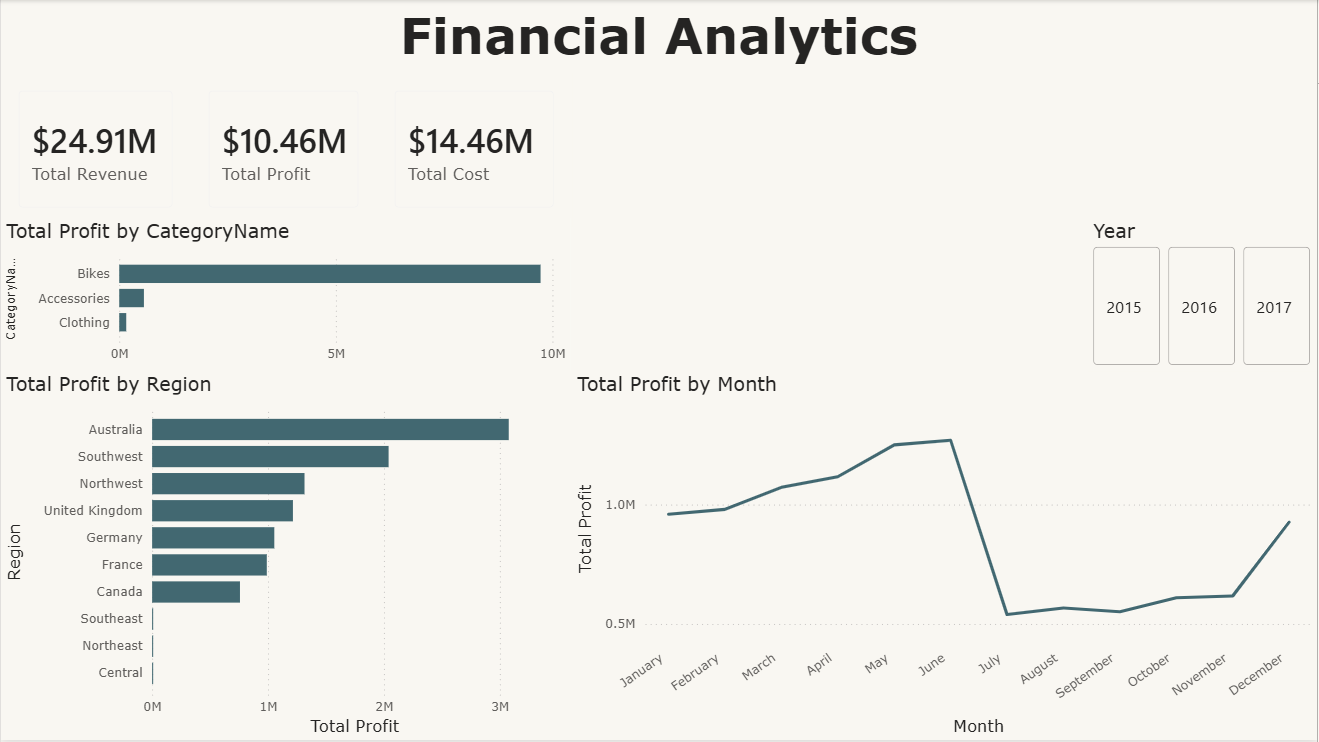

What the dashboard file says about the page in this screenshot:
{"tool":"tableau","page":{"name":"Dashboard 1","canvas":[1000,1000],"units":"permille","ordinal":0},"visuals":[{"type":"text","box":[4.7,8.8,990.6,90.7]},{"type":"worksheet","title":"Sheet 3","mark":"Automatic","box":[4.7,99.6,111,163.7]},{"type":"worksheet","title":"Sheet 5","mark":"Automatic","box":[115.7,99.6,111,163.7]},{"type":"worksheet","title":"Sheet 4","mark":"Automatic","box":[226.7,99.6,113.3,163.7]},{"type":"worksheet","title":"Sheet 6","mark":"Automatic","box":[339.9,99.6,113.2,163.7]},{"type":"worksheet","title":"Sheet 2","mark":"Automatic","box":[453.2,99.6,228.5,218.9]},{"type":"worksheet","title":"Sheet 1","mark":"Automatic","box":[681.7,99.6,220,129.5]},{"type":"legend","title":"Sheet 7","param":"[federated.1aws9jr1iyr5lv11f7j1b1no7b1o].[:Measure Names]","box":[901.7,99.6,93.6,50.9]},{"type":"legend","title":"Sheet 9","param":"[federated.1aws9jr1iyr5lv11f7j1b1no7b1o].[sum:Sales:qk]","box":[901.7,150.5,93.6,71.9]},{"type":"legend","title":"Sheet 10","param":"[federated.1aws9jr1iyr5lv11f7j1b1no7b1o].[none:Gender:nk]","box":[901.7,222.3,93.6,95.1]},{"type":"worksheet","title":"Sheet 8","mark":"Automatic","rows":["Sales"],"cols":["CategoryName"],"box":[681.7,229.1,220,316.3]},{"type":"worksheet","title":"Sheet 7","mark":"Automatic","rows":["Sales"],"cols":["OrderDate"],"box":[4.7,263.2,448.5,309.2]},{"type":"legend","title":"Sheet 10","param":"[federated.1aws9jr1iyr5lv11f7j1b1no7b1o].[sum:Sales:qk]","box":[901.7,317.5,93.6,50.9]},{"type":"worksheet","title":"Sheet 11","mark":"Automatic","rows":["Sales"],"cols":["Year"],"box":[453.2,318.4,228.5,672.7]},{"type":"legend","title":"Sheet 11","param":"[federated.1aws9jr1iyr5lv11f7j1b1no7b1o].[none:Year:nk]","box":[901.7,368.4,93.6,95.1]},{"type":"legend","title":"Sheet 8","param":"[federated.1aws9jr1iyr5lv11f7j1b1no7b1o].[none:CategoryName:nk]","box":[901.7,463.5,93.6,95.1]},{"type":"worksheet","title":"Sheet 10","mark":"Pie","box":[681.7,545.4,220,445.8]},{"type":"worksheet","title":"Sheet 9","mark":"Automatic","box":[4.7,572.5,448.5,418.7]}]}

Visuals, with their boxes on the dashboard's canvas, which has no fixed pixel size, in thousandths of its width and height (x1, y1, x2, y2). These are canvas units, not pixel positions in the 1319x742 screenshot, which may show the page scaled, cropped or inside an application window:
text: <box>5,9,995,100</box>
"Sheet 3" worksheet: <box>5,100,116,263</box>
"Sheet 5" worksheet: <box>116,100,227,263</box>
"Sheet 4" worksheet: <box>227,100,340,263</box>
"Sheet 6" worksheet: <box>340,100,453,263</box>
"Sheet 2" worksheet: <box>453,100,682,318</box>
"Sheet 1" worksheet: <box>682,100,902,229</box>
"Sheet 7" legend: <box>902,100,995,150</box>
"Sheet 9" legend: <box>902,150,995,222</box>
"Sheet 10" legend: <box>902,222,995,317</box>
"Sheet 8" worksheet: <box>682,229,902,545</box>
"Sheet 7" worksheet: <box>5,263,453,572</box>
"Sheet 10" legend: <box>902,318,995,368</box>
"Sheet 11" worksheet: <box>453,318,682,991</box>
"Sheet 11" legend: <box>902,368,995,464</box>
"Sheet 8" legend: <box>902,464,995,559</box>
"Sheet 10" worksheet (Pie marks): <box>682,545,902,991</box>
"Sheet 9" worksheet: <box>5,572,453,991</box>
